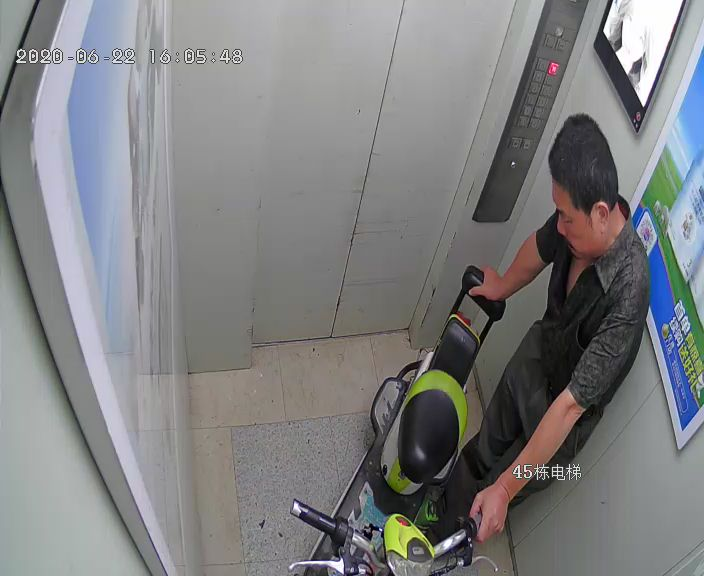Electric-bicycle: (288, 262, 505, 576)
